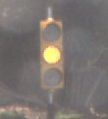Yellow: (37, 11, 72, 104)
